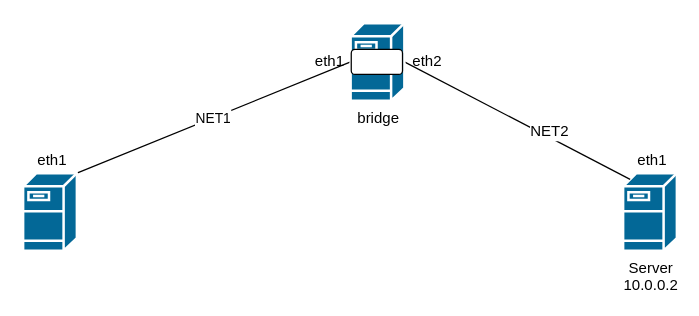
This 699x316 diagram has some shape labels left out. The shapes that lost their labels are listed below. From the top down, each one's centre as x and y in pixels, then its label:
At point (376, 61): "br0".
At point (49, 211): "Client 10.0.0.1".
